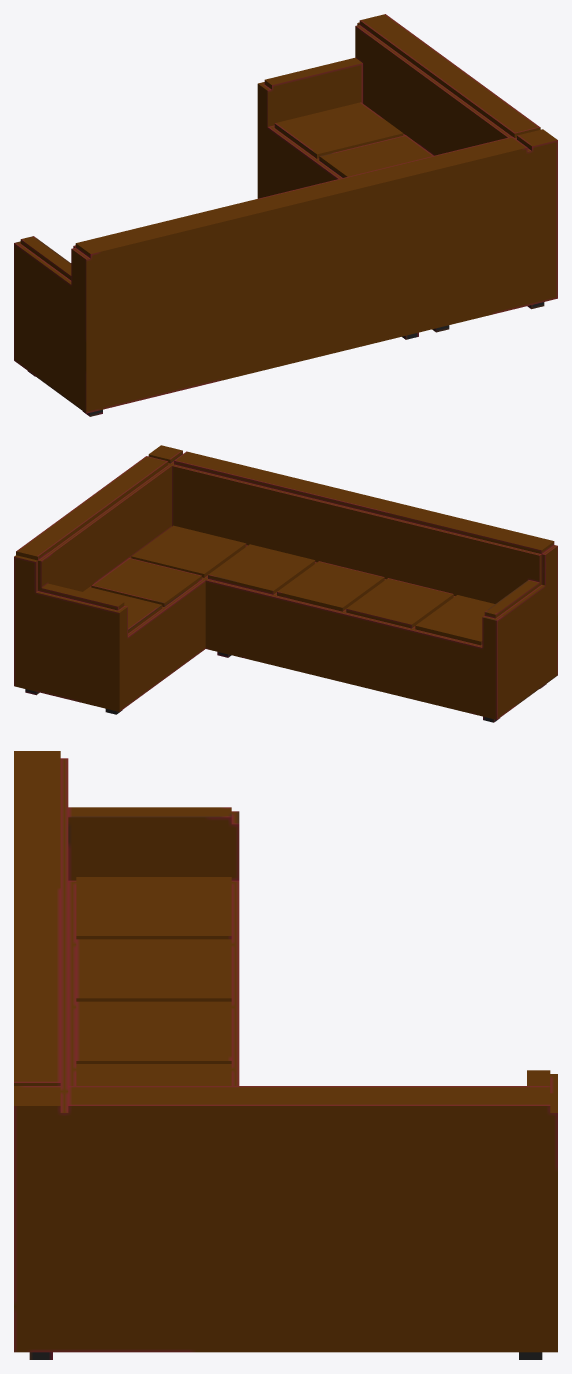
The model's file is sofa.obj.
The picture shows the model from 3 angles, top to bottom: view 1: azimuth 30°, elevation 25°; view 2: azimuth 150°, elevation 25°; view 3: azimuth 270°, elevation 25°; orthographic projection. The views are drawn at different scales.
Parts seen in each view (by area): view 1: sofa; view 2: sofa; view 3: sofa.
Part boxes in pixels (x1,y1,x2,y2): sofa: (14,14,557,416); sofa: (14,445,557,722); sofa: (14,751,557,1359).
Bounding box in the file's own units: 10.9 × 3.7 × 7.
Materials: 1 (1 with a texture image).
